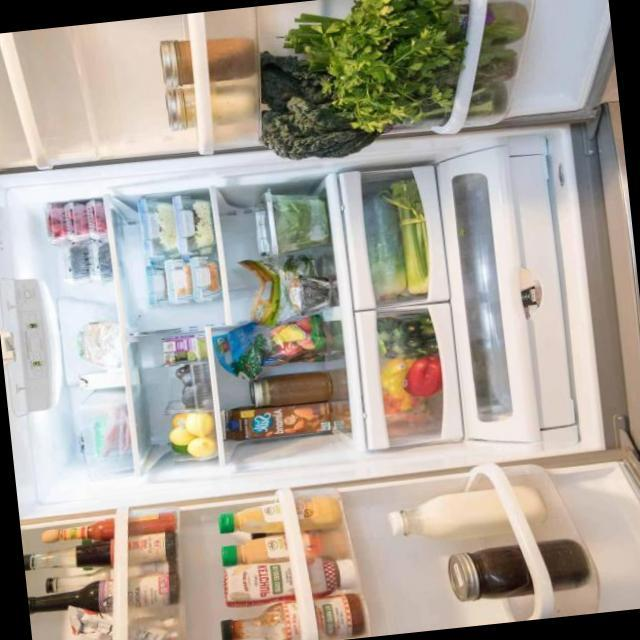Limón: (187, 410, 215, 437), (187, 435, 217, 458), (169, 425, 191, 445)
parsley: (333, 0, 468, 104)
red bell pepper: (403, 354, 442, 397)
sauce: (23, 541, 111, 575), (220, 602, 296, 640), (27, 584, 107, 617), (41, 518, 111, 546)
